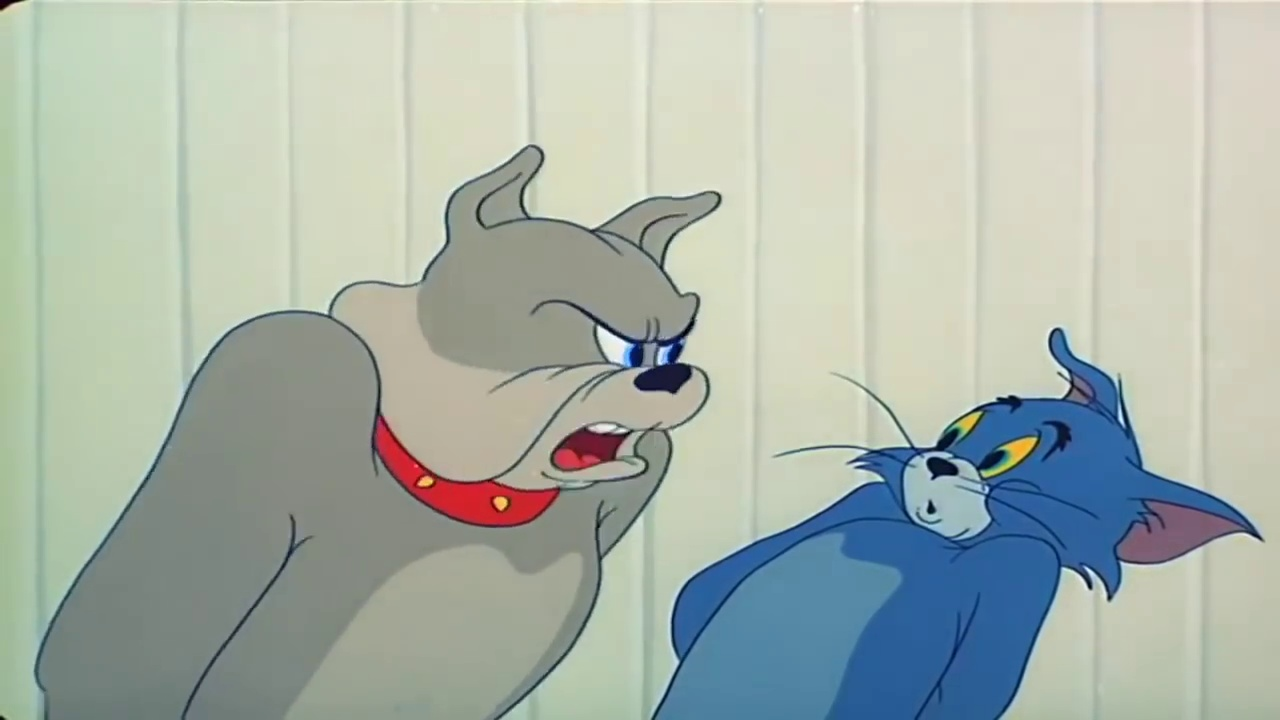spike: (322, 145, 725, 533)
tom: (828, 322, 1264, 600)
